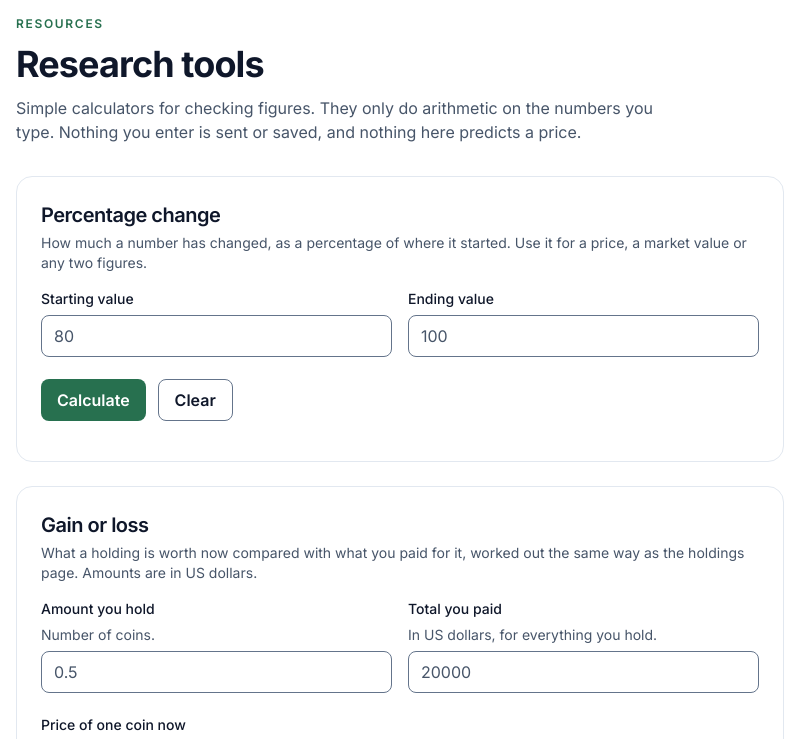
Test case: Research tools page › works out a gain or loss
Type "5" into the field labelled "Amount you hold" at (216, 672), box [41,651,392,693]
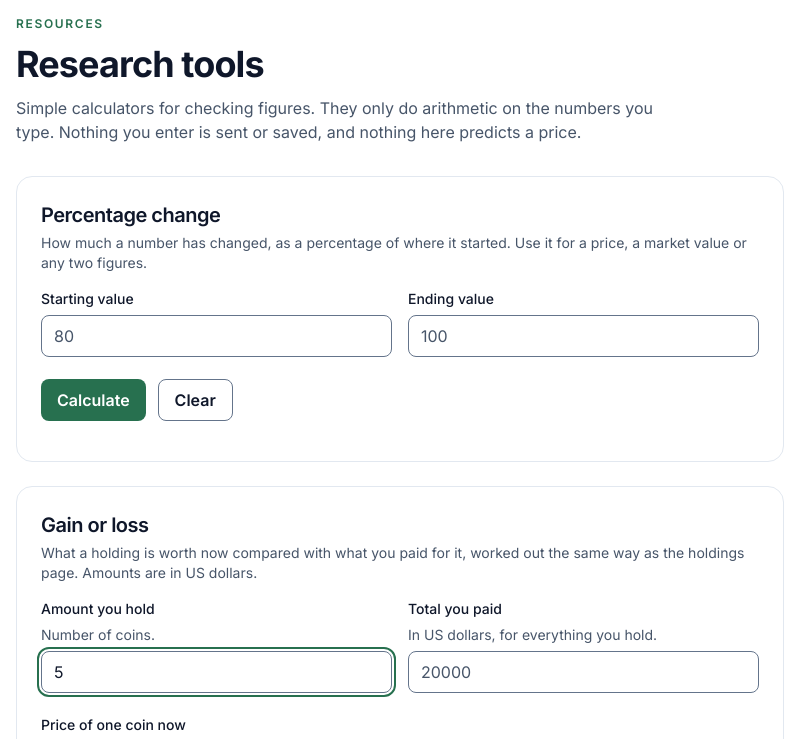
Type "1,000" into the field labelled "Total you paid" at (584, 672), box [408,651,759,693]
(page scrolled)
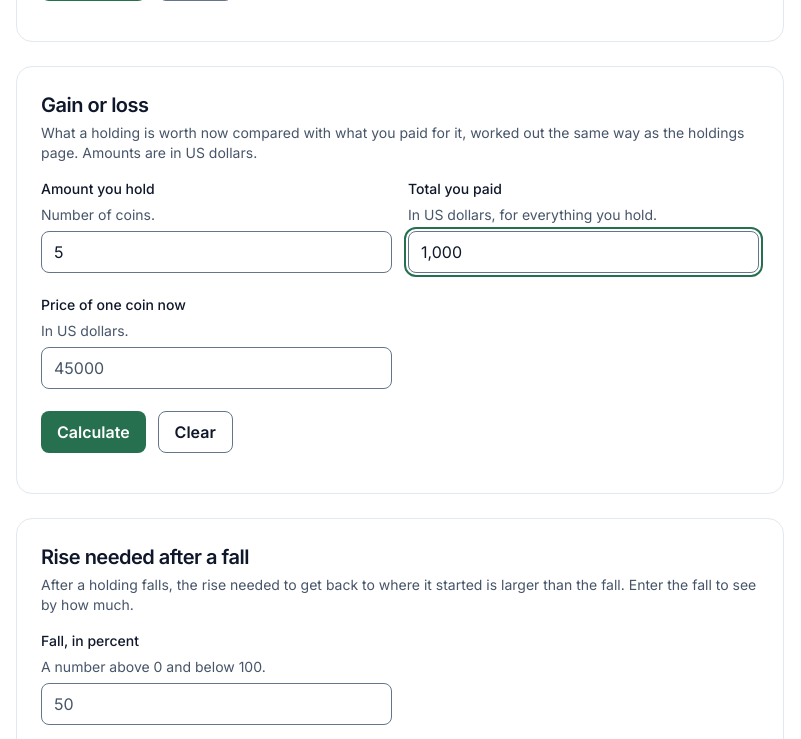
Type "250" into the field labelled "Price of one coin now" at (216, 368), box [41,347,392,389]
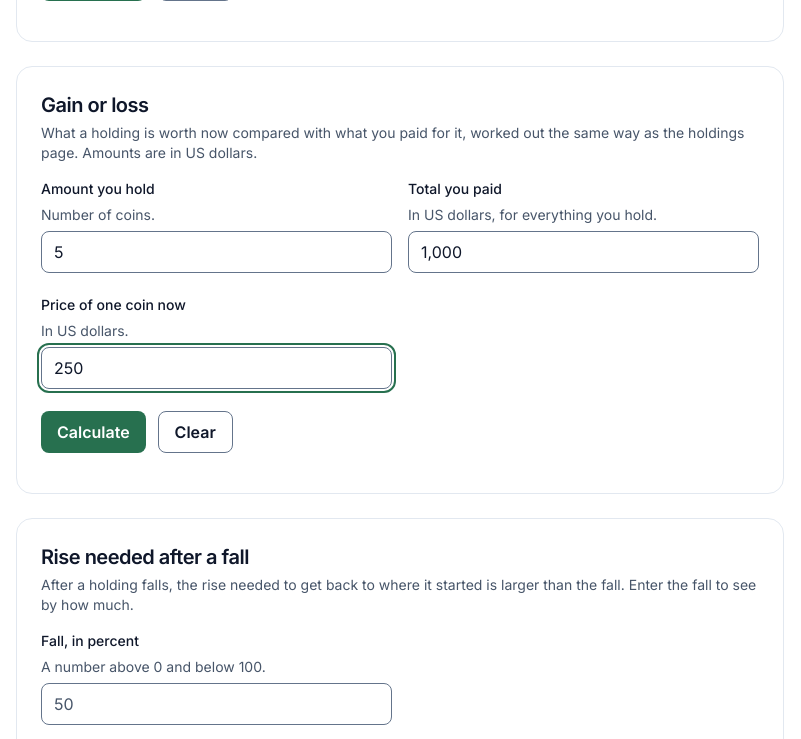
Click the button "Calculate" below "Price of one coin now" at (93, 432), box [41,411,146,453]
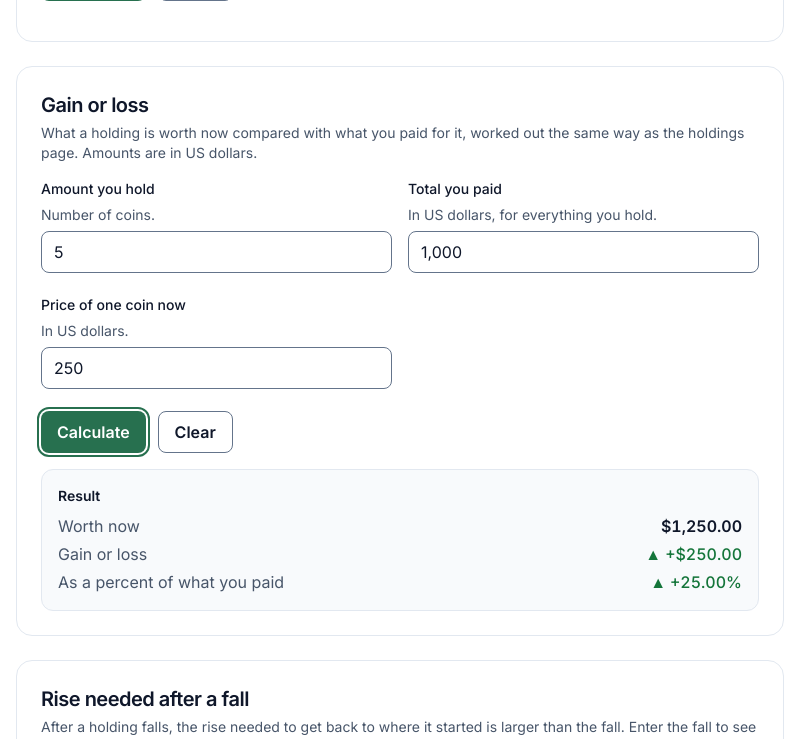
Expected: the text "$1,250.00" is shown, [661,514,742,538]
Expected: the text "+$250.00" is shown, [665,542,742,566]
Expected: the text "+25.00%" is shown, [670,570,742,594]
